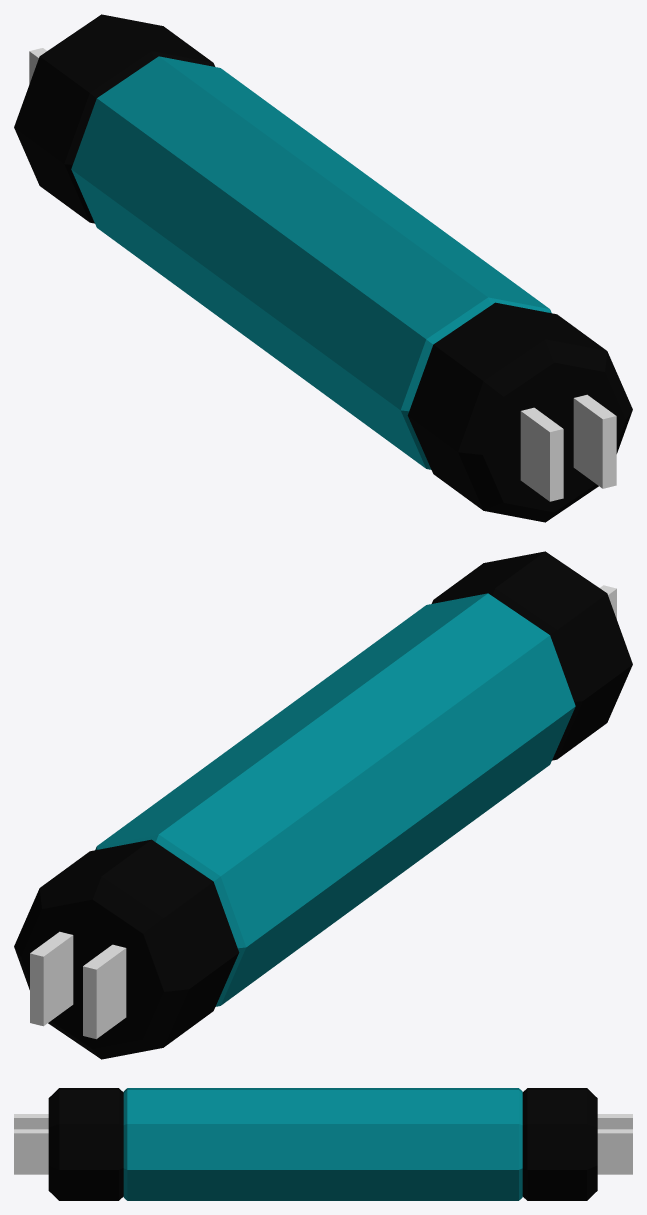
Rendered from Fuse.fbx.
3 views of the same model, one above another, from view 1: azimuth 30°, elevation 25°; view 2: azimuth 150°, elevation 25°; view 3: azimuth 270°, elevation 25° (orthographic). The views are drawn at different scales.
Visible parts, largest first — view 1: Fuse; view 2: Fuse; view 3: Fuse.
Boxes of the visible parts, <box> form: Fuse: <box>14,14,632,522</box>; Fuse: <box>14,551,632,1059</box>; Fuse: <box>14,1088,632,1200</box>.
Size of the model in its own units: 7.59 by 7.59 by 39.09.
